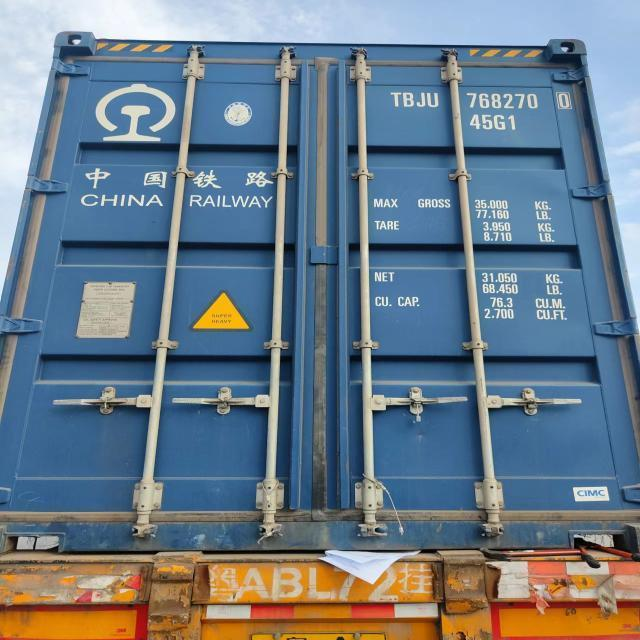ISO: (472, 115, 516, 132)
container_number: (396, 92, 568, 112)
